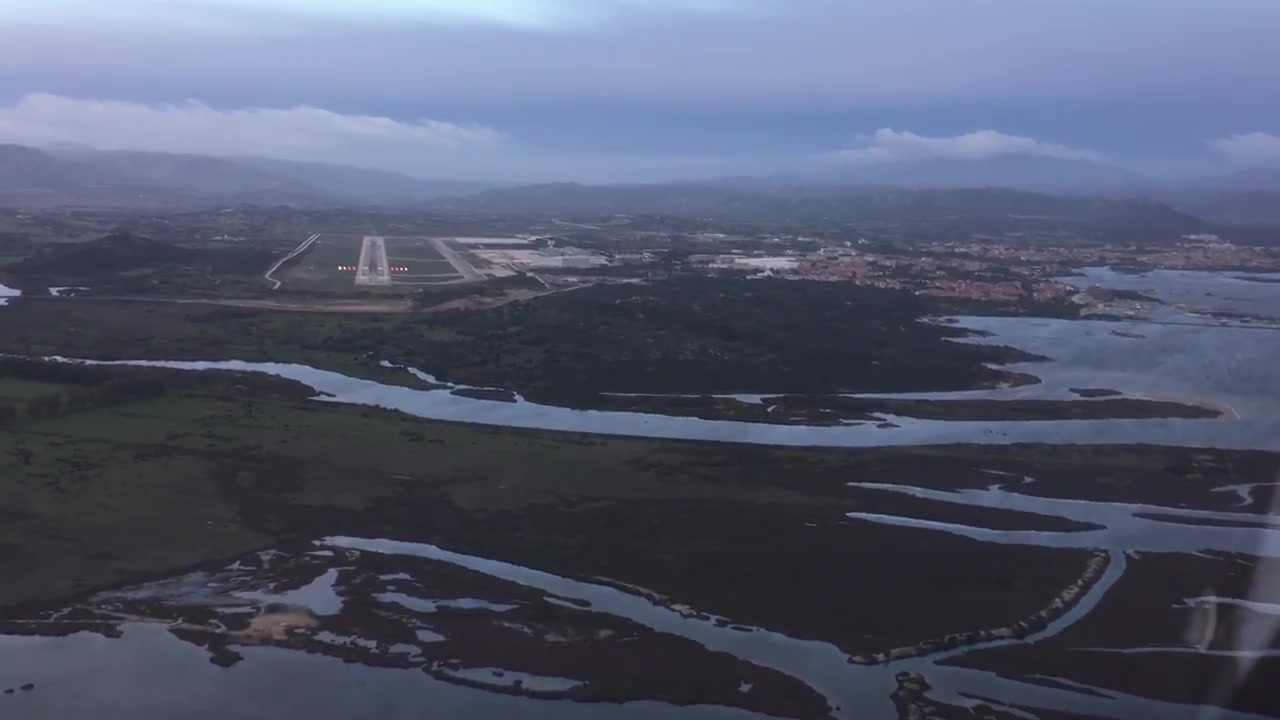runway: (352, 236, 394, 284)
